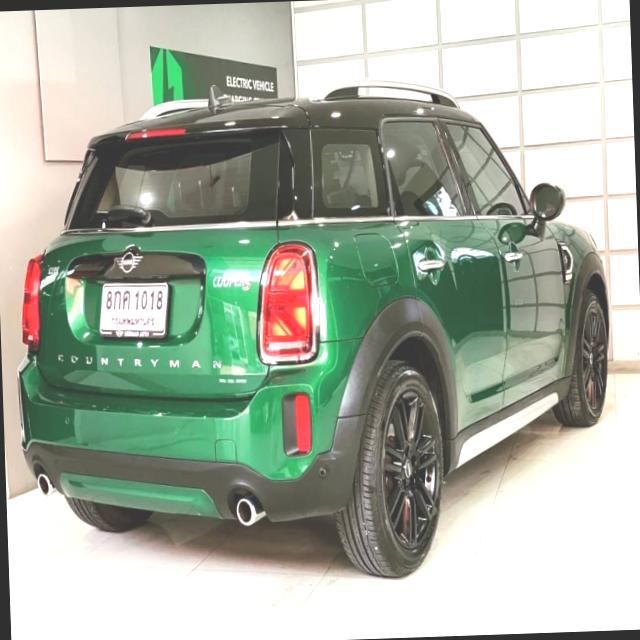license_plate: (94, 272, 175, 348)
